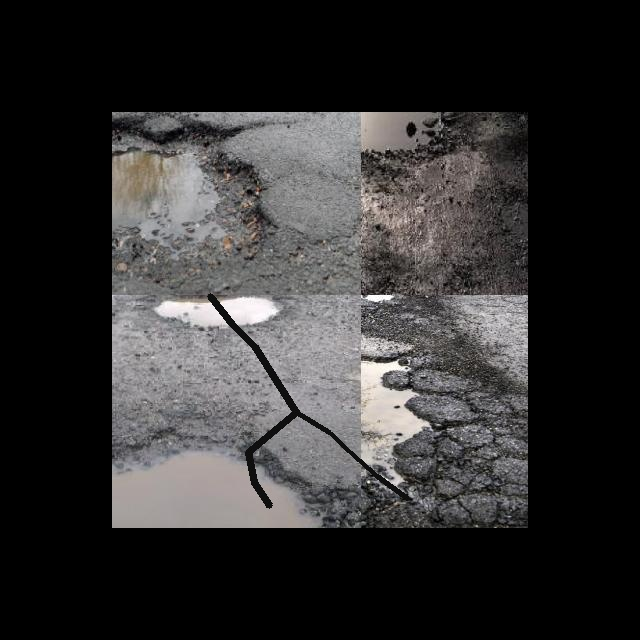road_crack: (200, 286, 306, 515)
